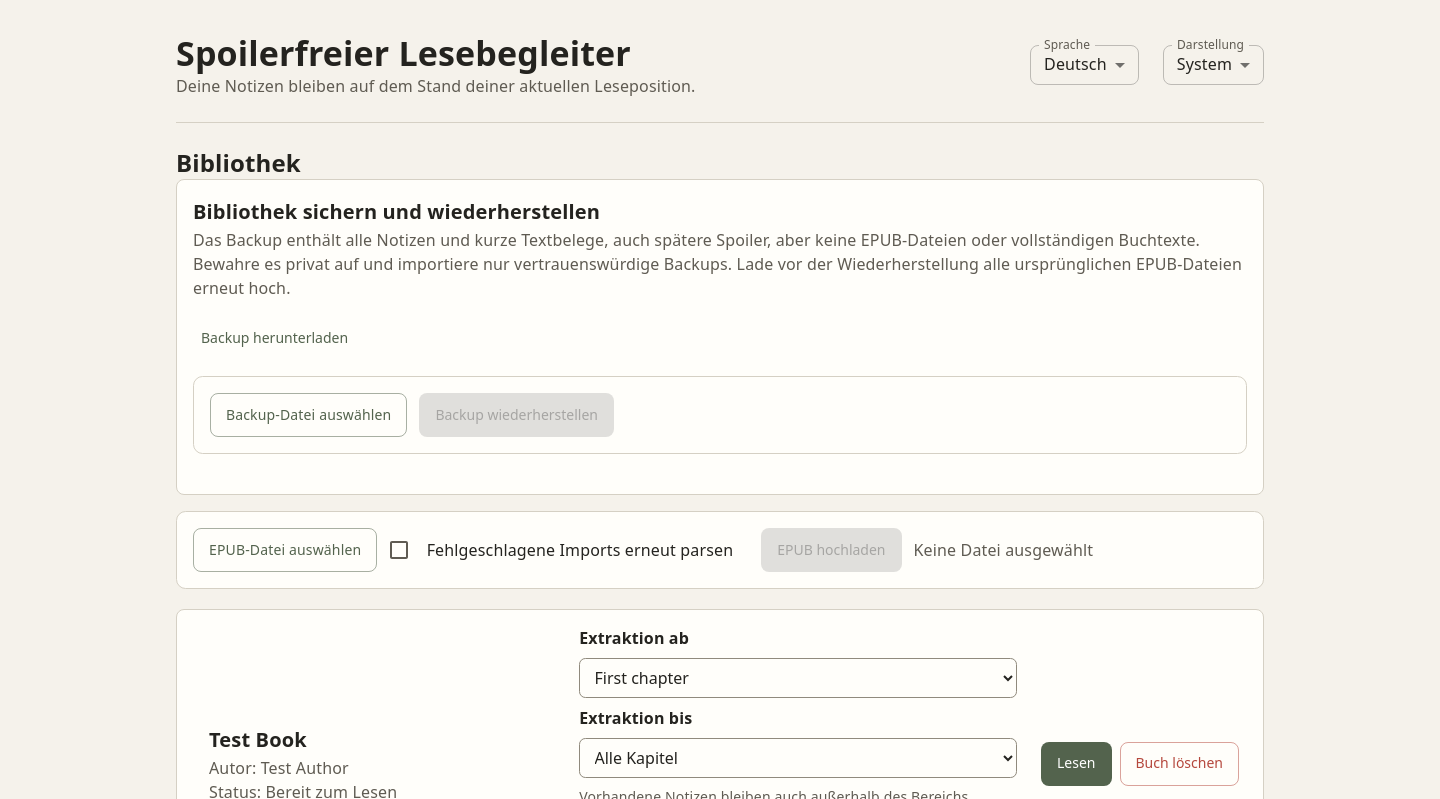
Test: App › shows a localized error when the entity lookup fails
This screenshot has width=1440, height=799.
Later steps or results of the test are not shown.
Click the button "Lesen". click: {"x": 1076, "y": 764}
box: [1041, 742, 1112, 786]
(page scrolled)
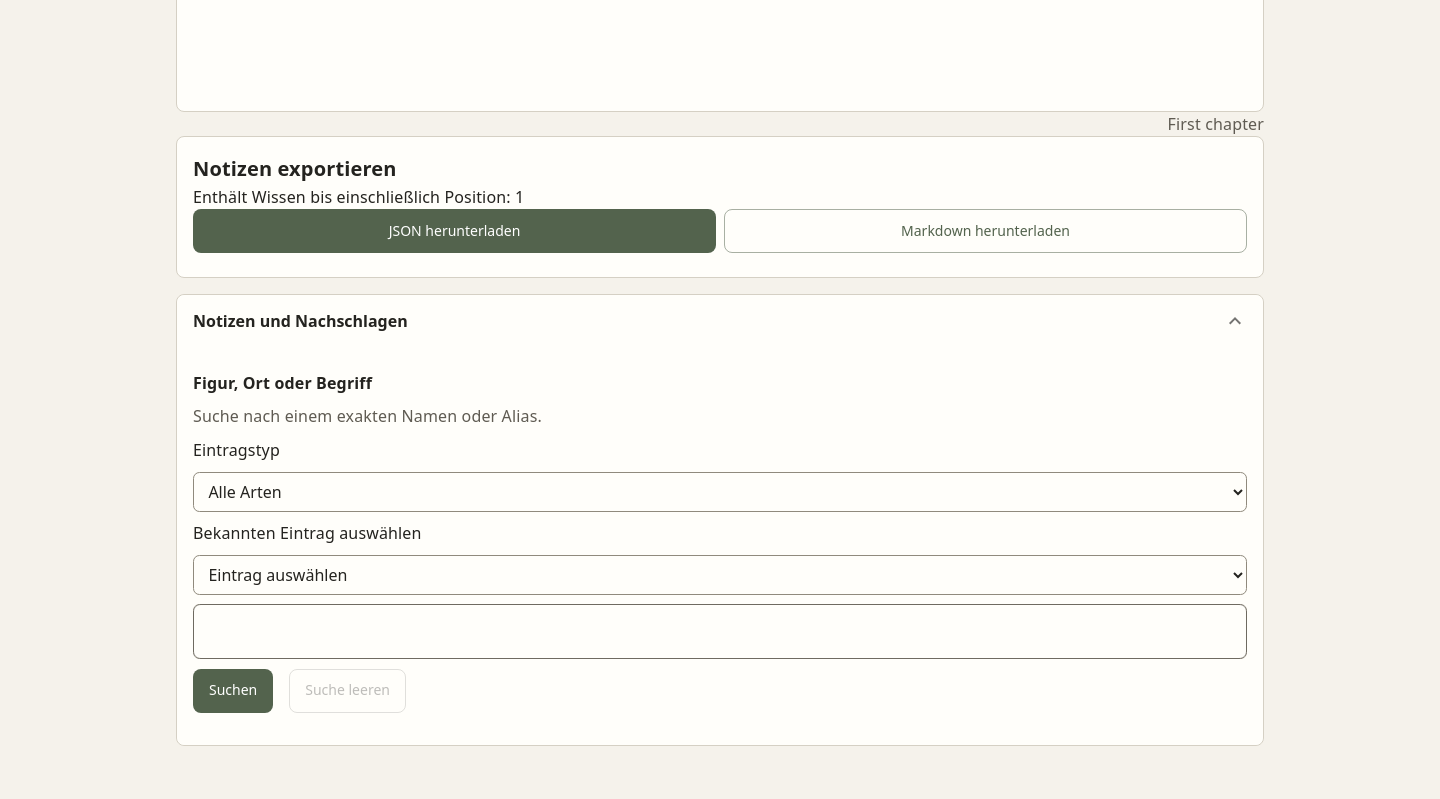
Expected: the search field labelled "Figur, Ort oder Begriff" is shown
Type "Liora" into the search field labelled "Figur, Ort oder Begriff". click: {"x": 720, "y": 632}
box: [193, 604, 1247, 659]
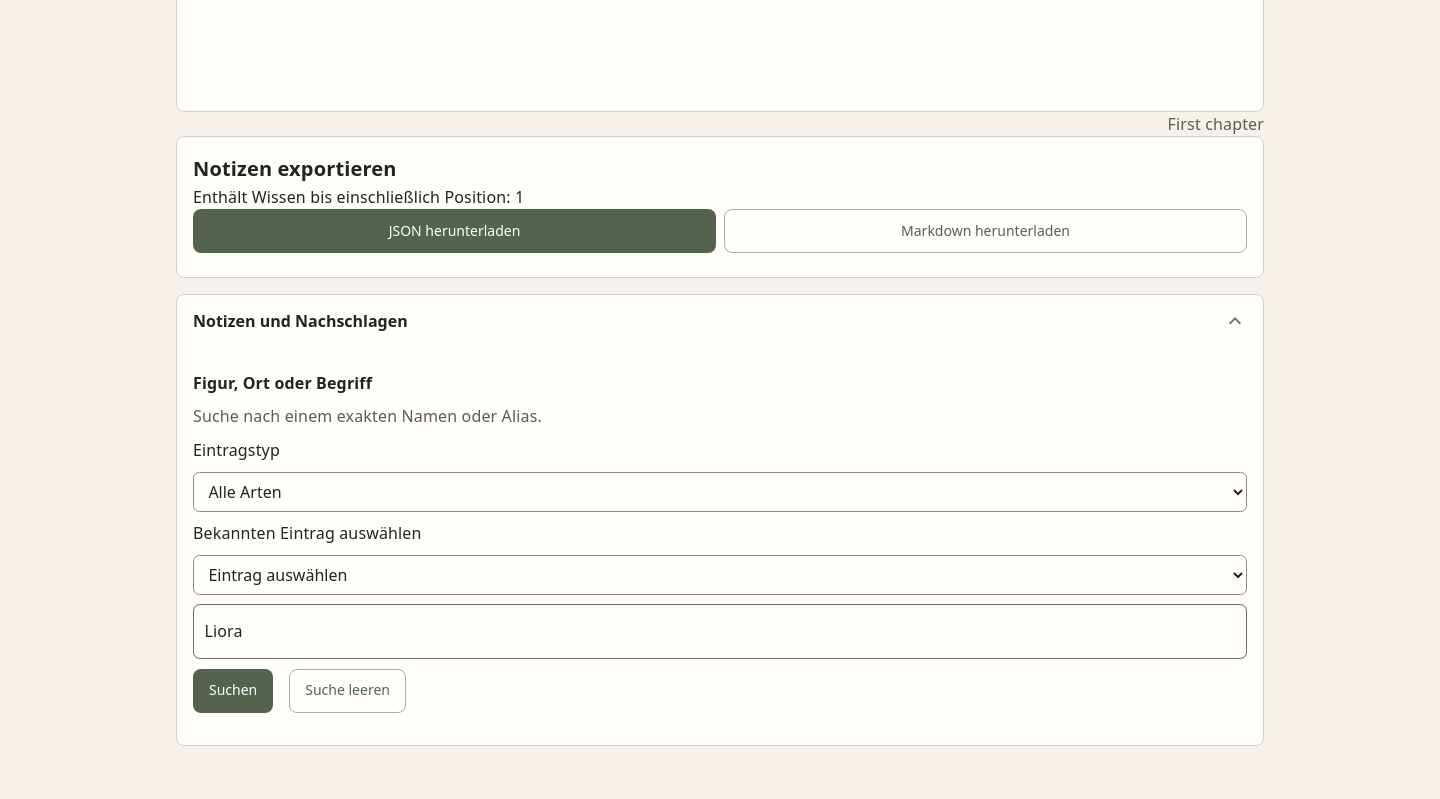
Click the button "Suchen". click: {"x": 233, "y": 691}
box: [193, 669, 273, 713]
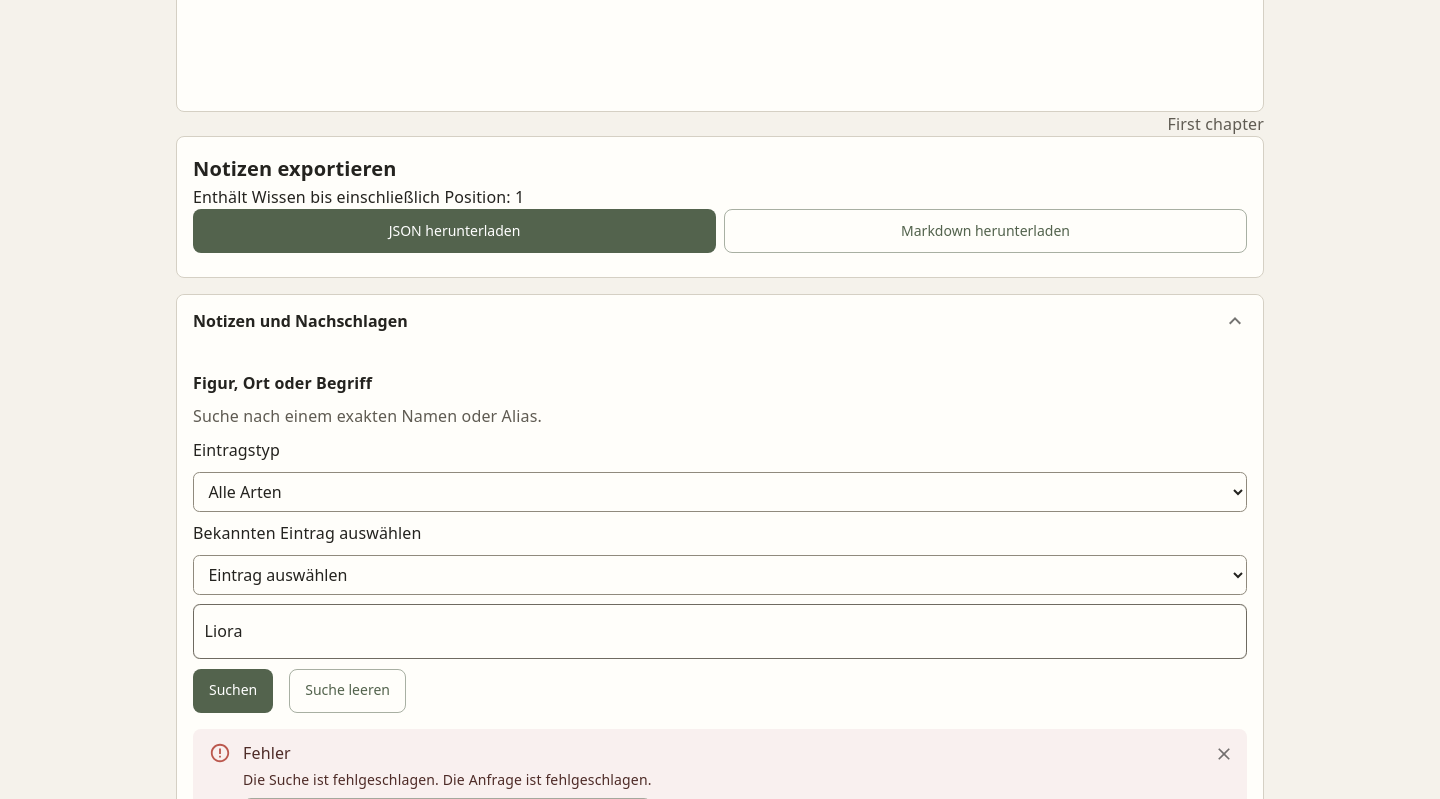
Expected: the message shows "Die Suche ist fehlgeschlagen. Die Anfrage ist fehlgeschlagen.", [243, 770, 652, 789]
